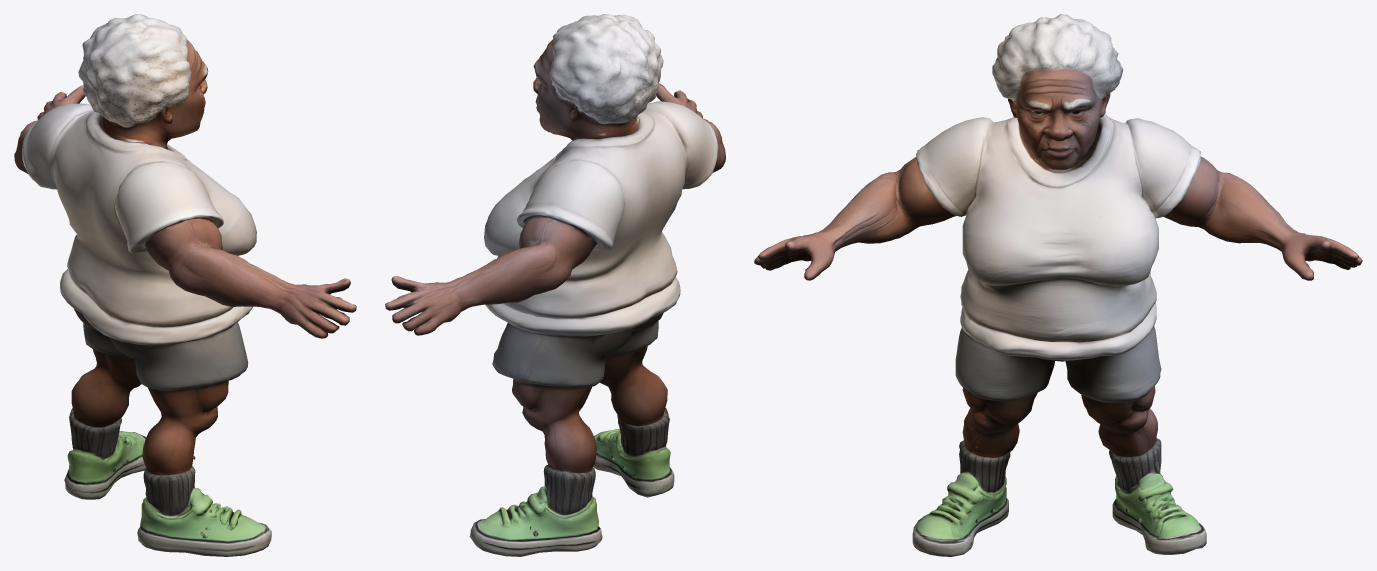
3 views of the same model, side by side, from view 1: azimuth 30°, elevation 25°; view 2: azimuth 150°, elevation 25°; view 3: azimuth 270°, elevation 25° (orthographic). The views are drawn at different scales.
Parts seen in each view (by area): view 1: tripo_node_af846c95; view 2: tripo_node_af846c95; view 3: tripo_node_af846c95.
Part boxes in pixels (x1,y1,x2,y2): tripo_node_af846c95: (14, 14, 356, 556); tripo_node_af846c95: (385, 14, 725, 556); tripo_node_af846c95: (754, 14, 1362, 556).
Bounding box in the file's own units: 30.53 × 91.78 × 100.
Materials: 1 (1 with a texture image).
